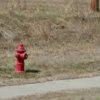Hydrant: (10, 35, 30, 84)
